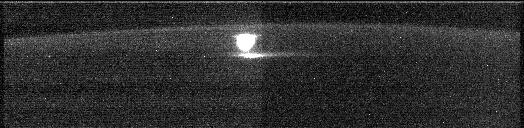positive: (231, 31, 258, 54)
